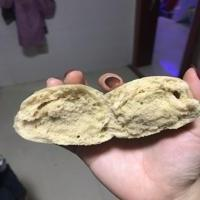biodegradable: (11, 74, 200, 146)
